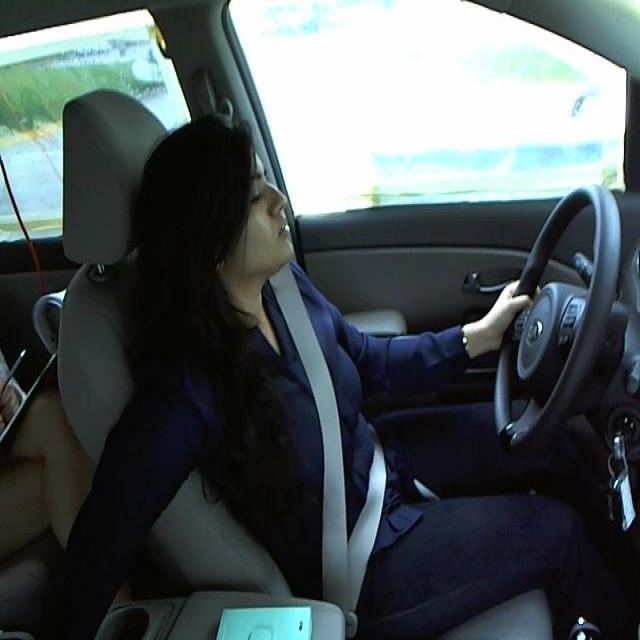seatbelt: (280, 300, 413, 603)
